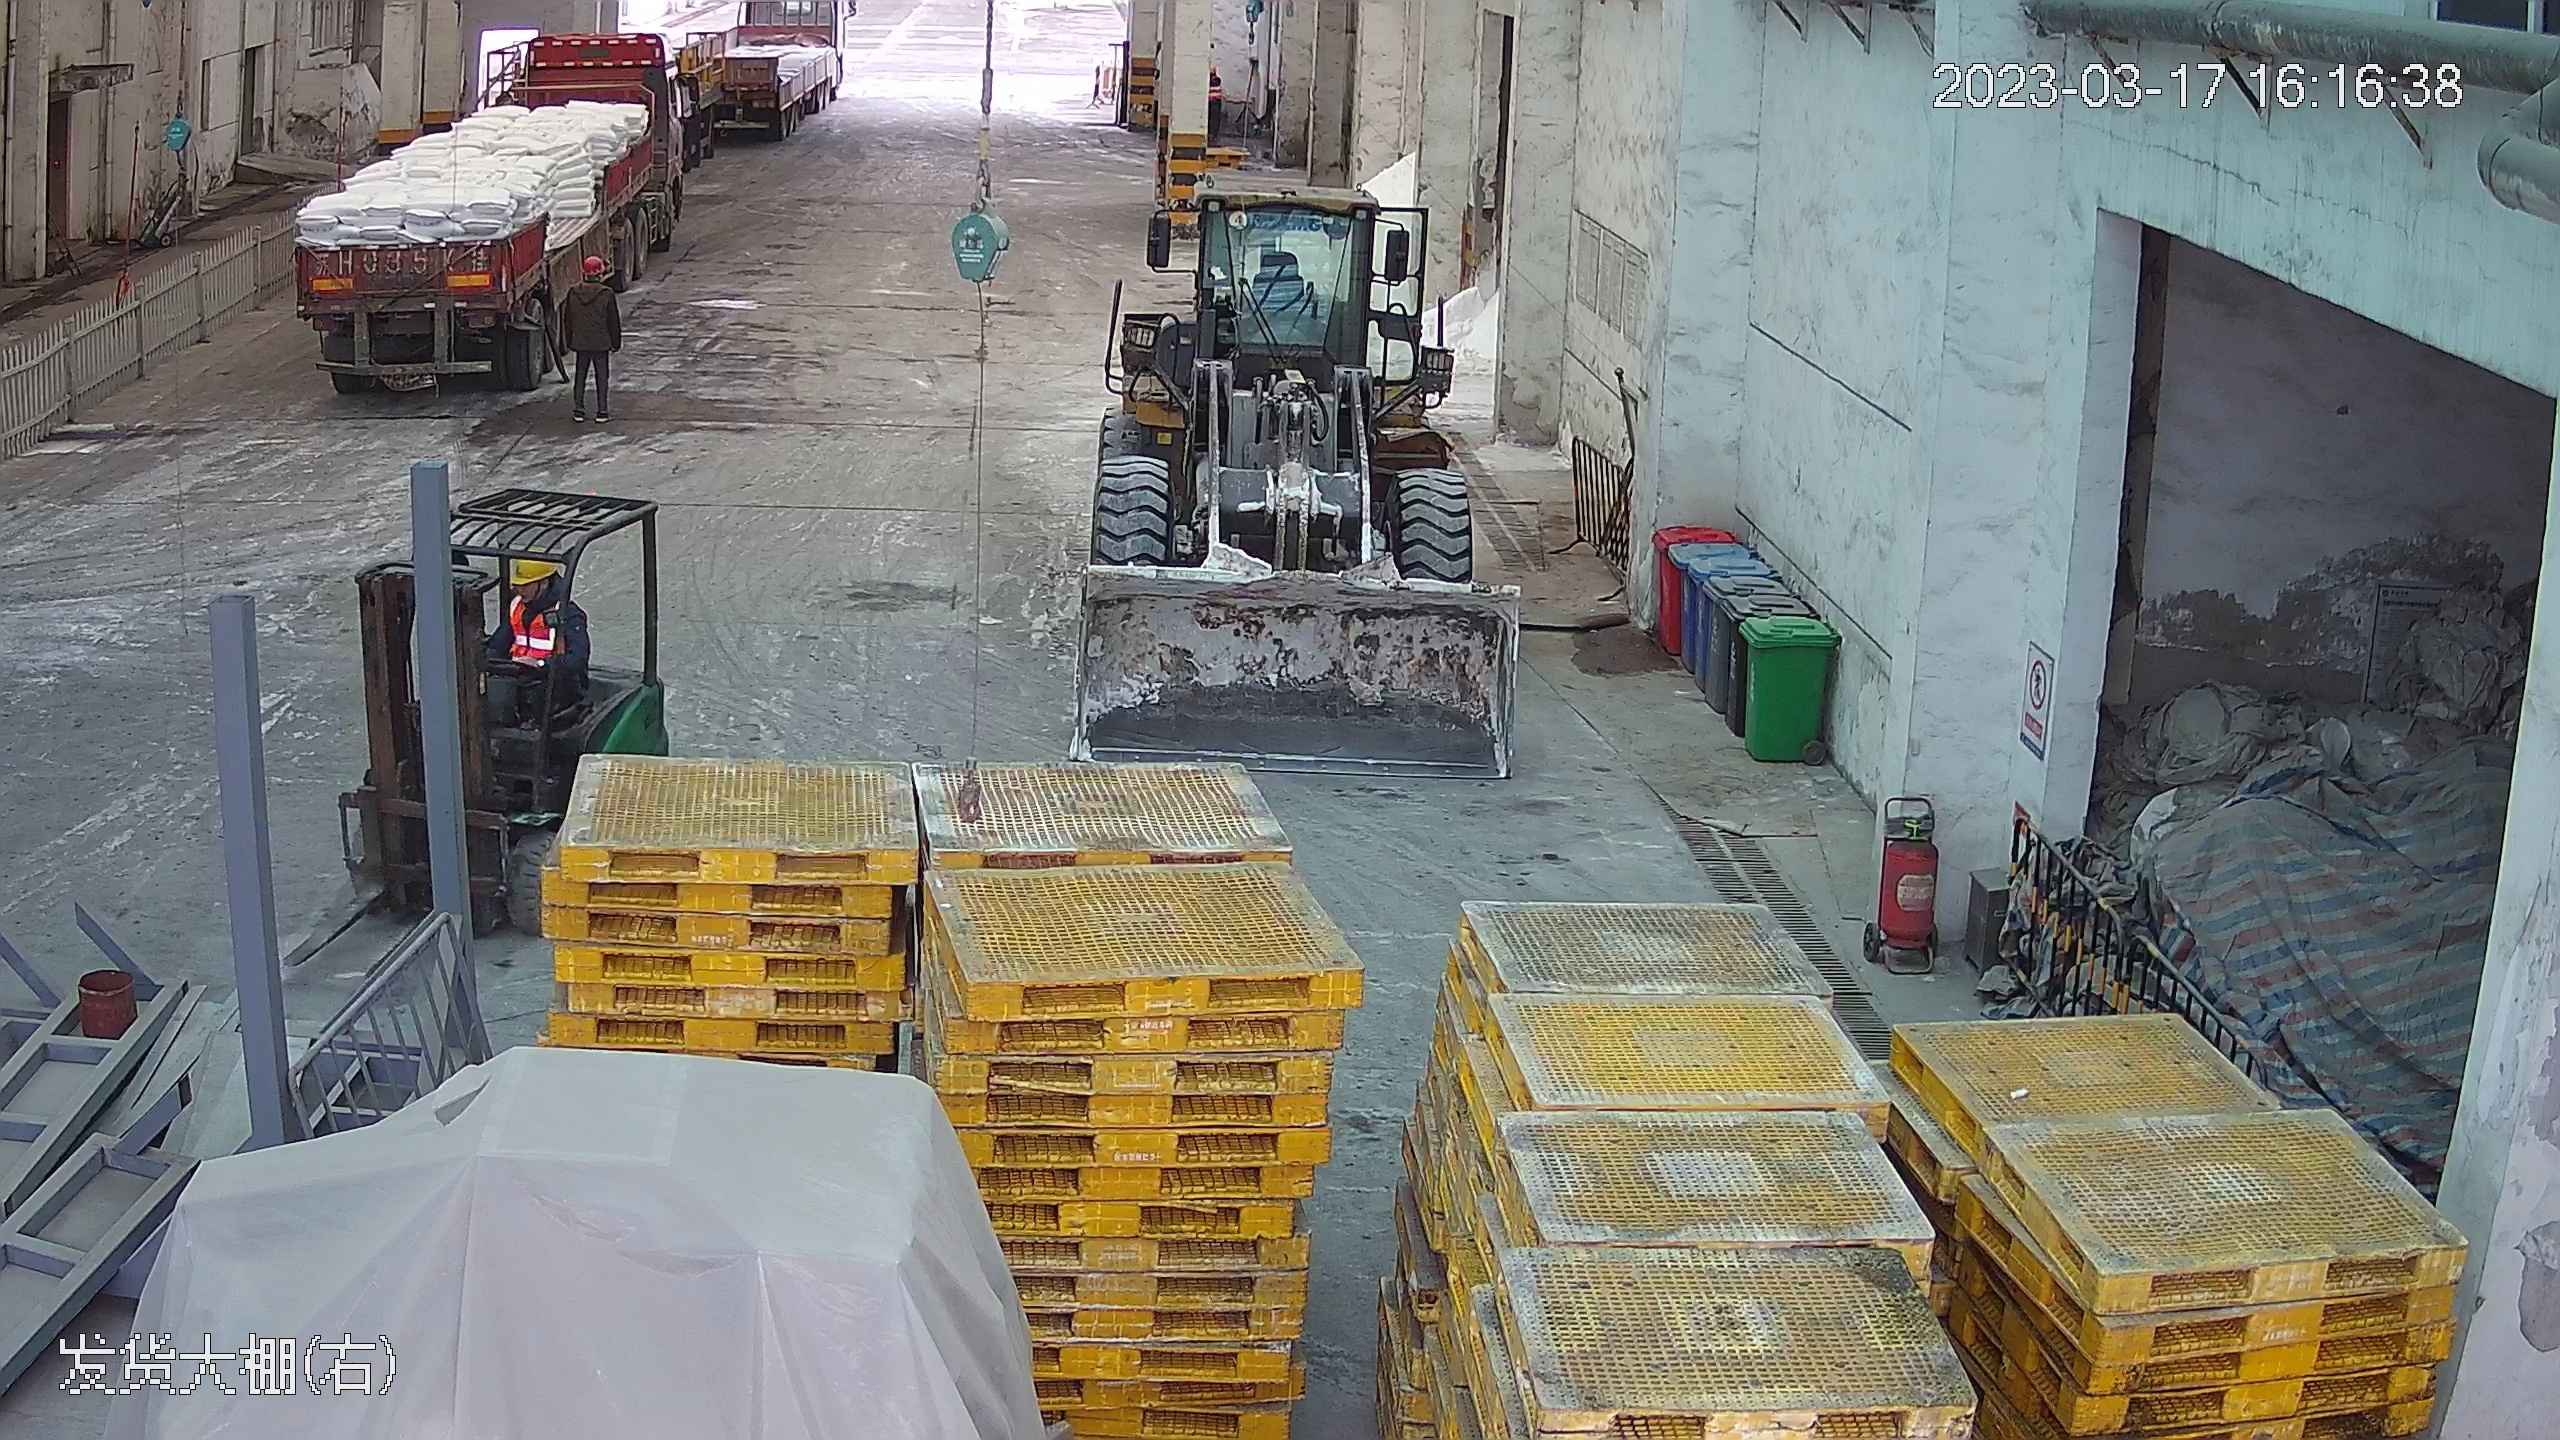head: (505, 549, 572, 629), (565, 253, 620, 306)
helmet: (513, 550, 559, 585), (583, 251, 608, 278)
people: (559, 250, 625, 427)
truck: (272, 8, 694, 407)
